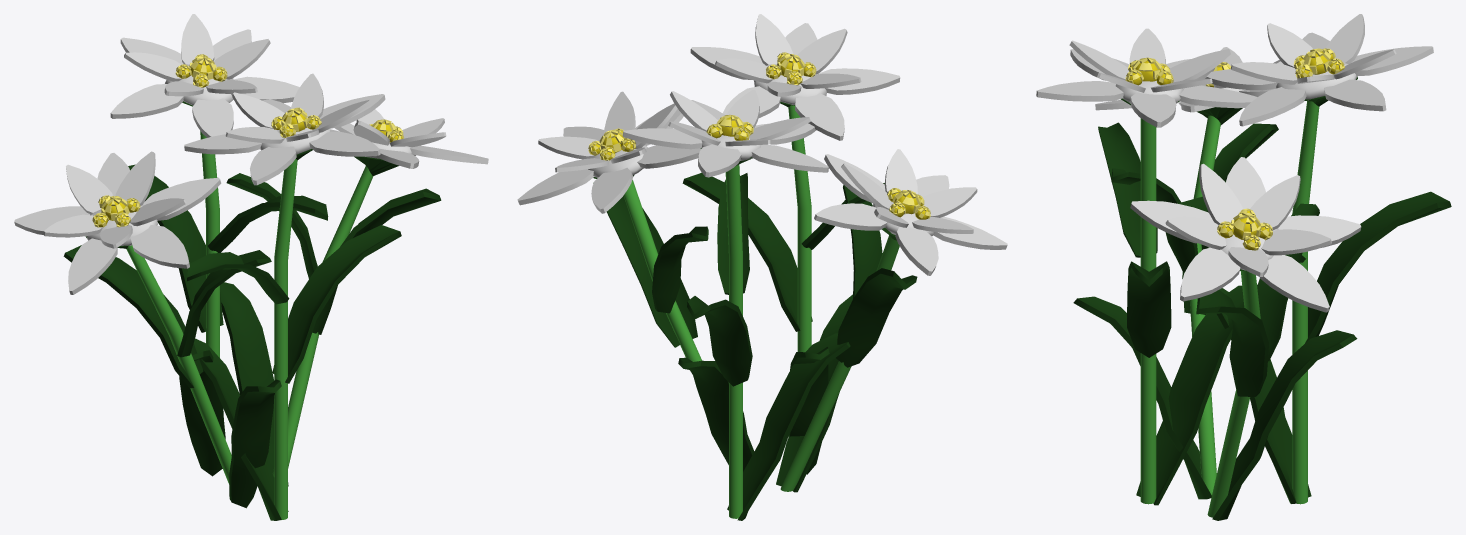
Rendered from edelweissv2.fbx.
3 renders of one model, left to right at view 1: azimuth 30°, elevation 25°; view 2: azimuth 150°, elevation 25°; view 3: azimuth 270°, elevation 25°, orthographic. The views are drawn at different scales.
Parts seen in each view (by area): view 1: edelweiss; view 2: edelweiss; view 3: edelweiss.
Part boxes in pixels (bbox=[...]): edelweiss: bbox=[14, 14, 488, 520]; edelweiss: bbox=[517, 14, 1007, 520]; edelweiss: bbox=[1036, 14, 1451, 520].
Bounding box in the file's own units: 0.9253 × 0.8655 × 0.6954.
